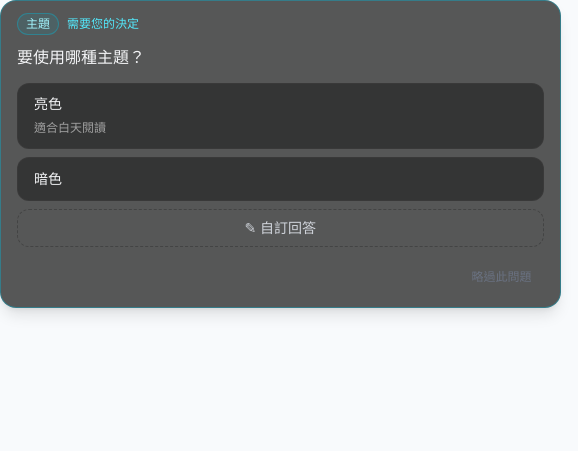
Test case: ClarifyQuestionCard (interactive) › blocks custom submission while the input is blank
Click the button with test id "clarify-custom-toggle" at {"x": 280, "y": 228}, box top-left (17, 209), bottom-right (544, 247)
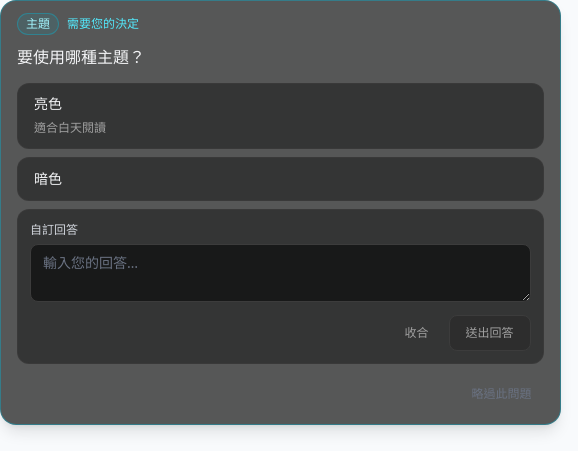
Expected: the button with test id "clarify-custom-submit" is disabled, top-left (448, 315), bottom-right (530, 351)
